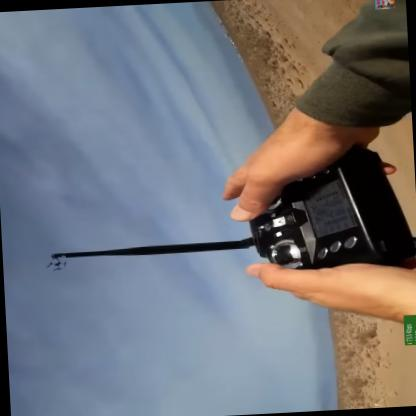drone: (44, 254, 68, 271)
